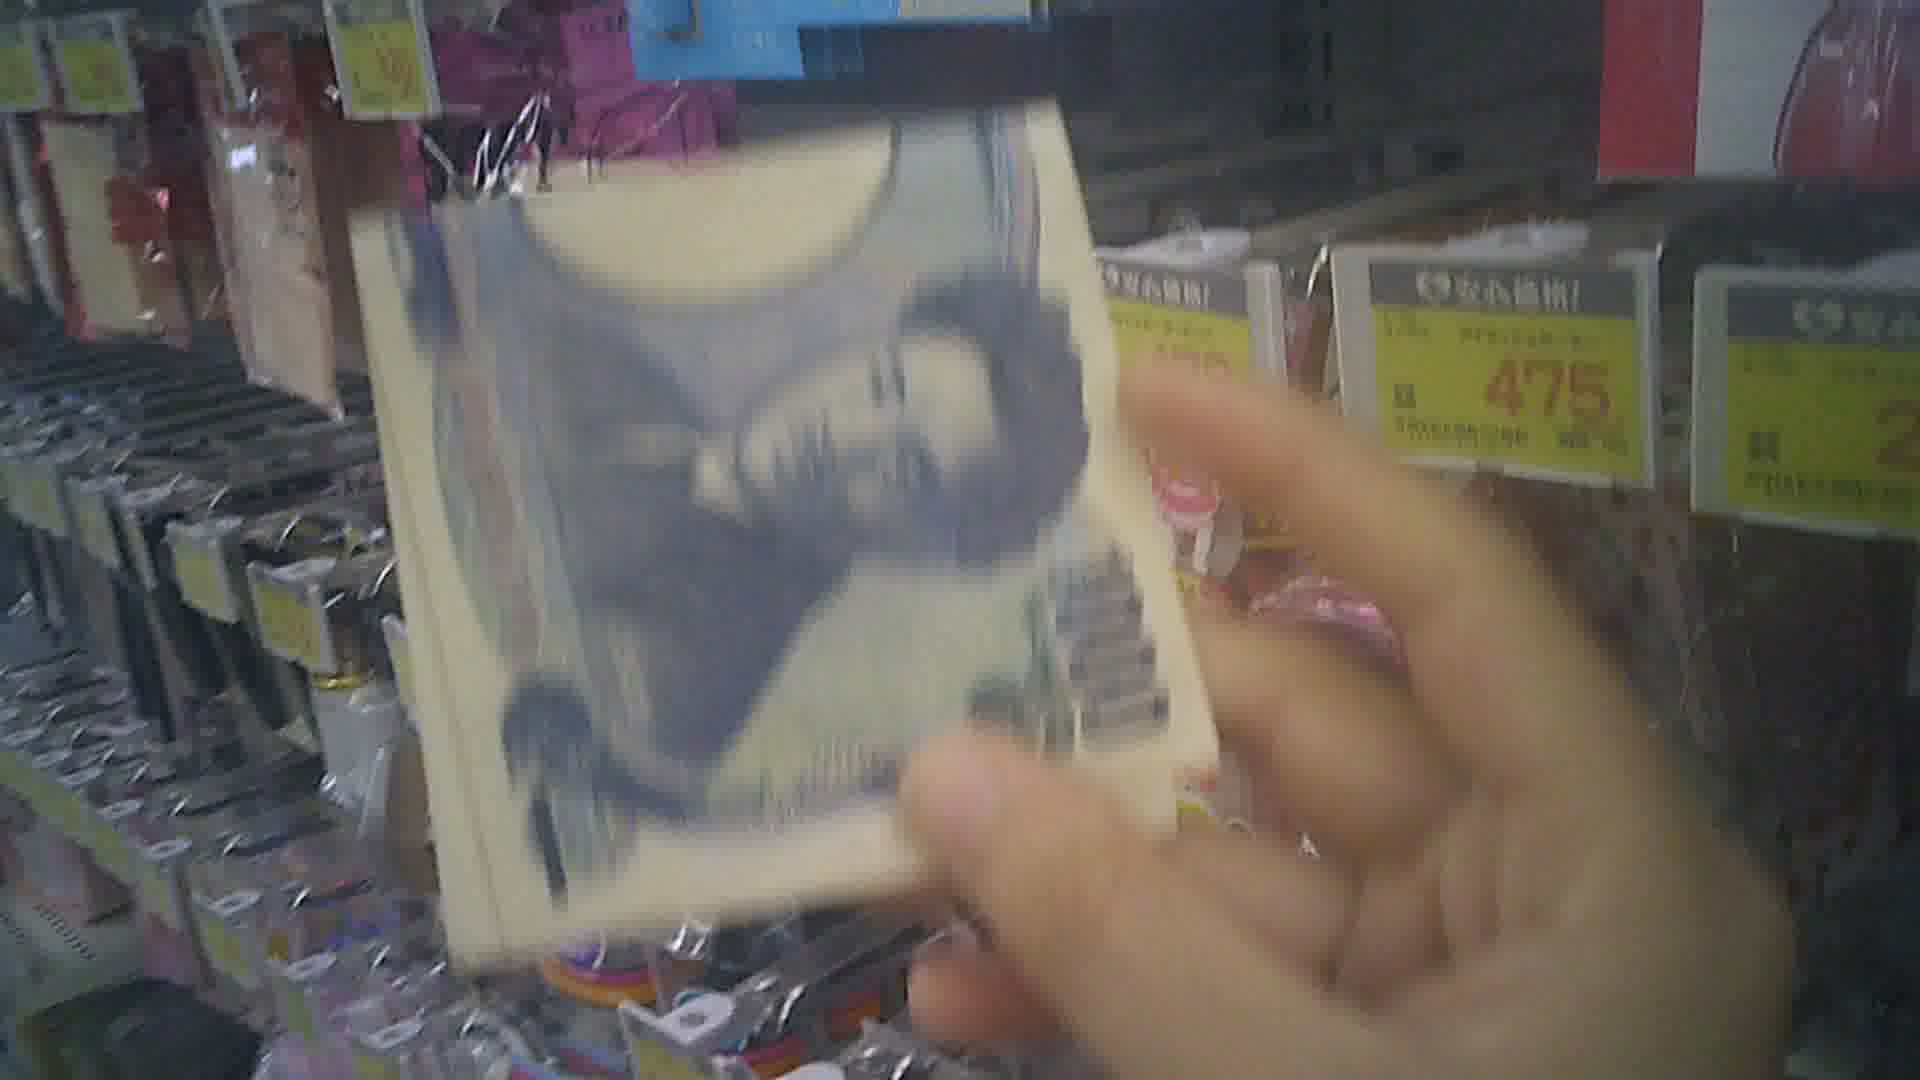1,000 Yen: (338, 109, 1217, 861)
